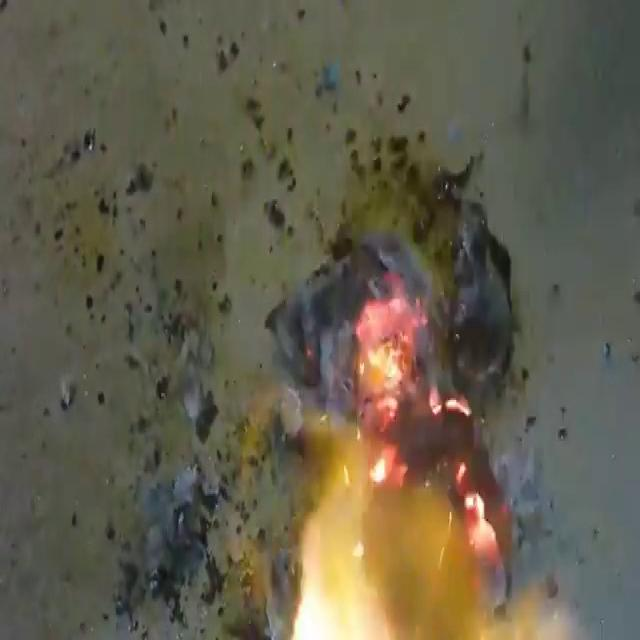Fire: (5, 4, 629, 636)
